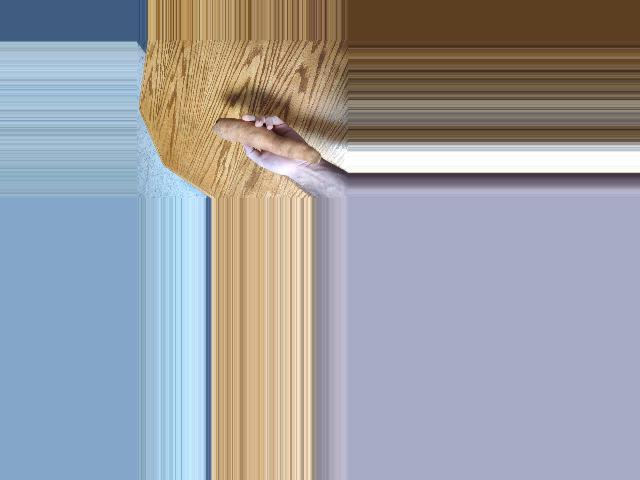sweet_potato: (197, 112, 308, 157)
